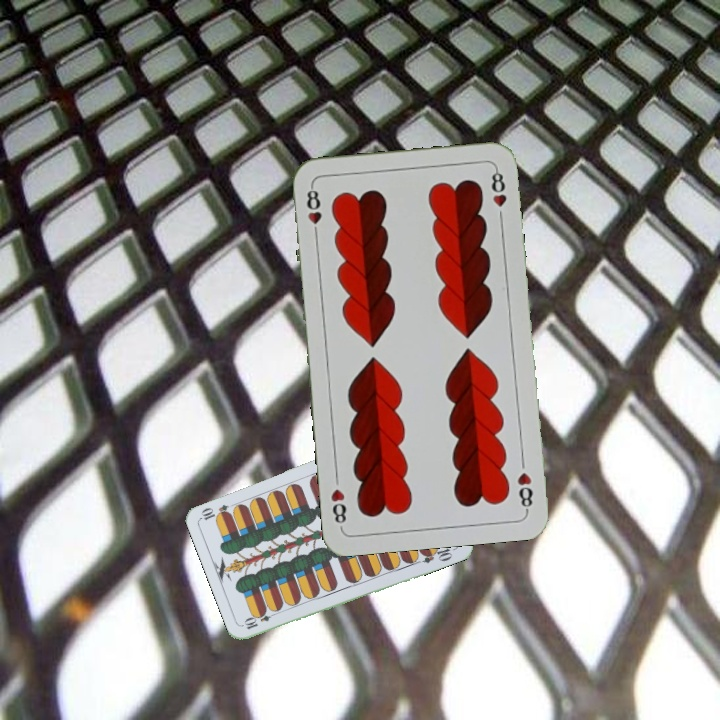E10: (240, 607, 280, 632)
H8: (303, 182, 324, 242), (513, 468, 535, 514)
